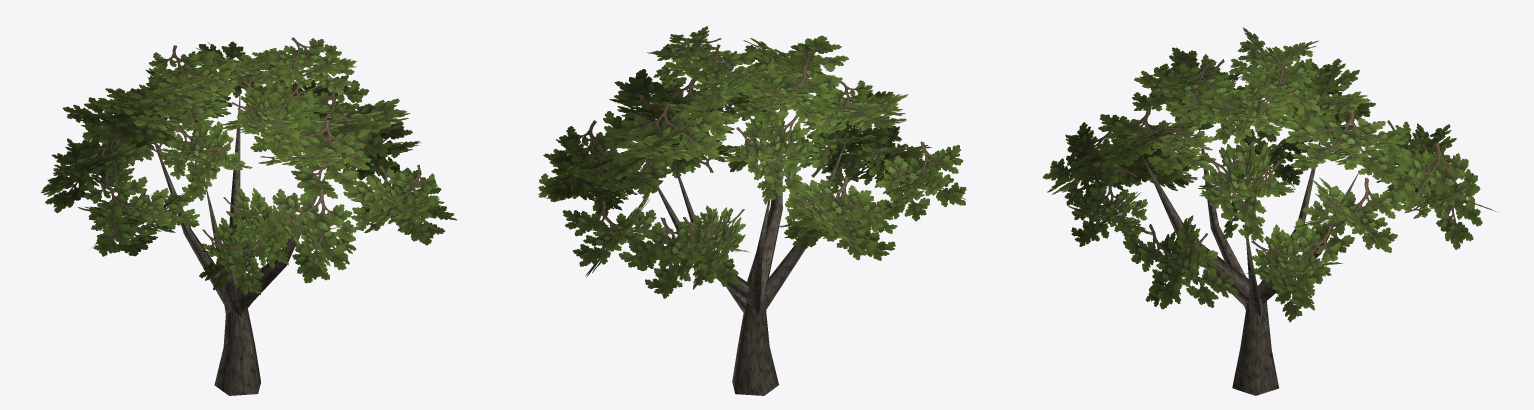
Rendered from oak.glb.
The picture shows the model from 3 angles, left to right: view 1: azimuth 30°, elevation 25°; view 2: azimuth 150°, elevation 25°; view 3: azimuth 270°, elevation 25°; orthographic projection.
Parts seen in each view (by area): view 1: oak_foliage, oak_wood; view 2: oak_foliage, oak_wood; view 3: oak_foliage, oak_wood.
Boxes of the visible parts, x1=… form: oak_foliage: x1=41, y1=37, x2=456, y2=295; oak_wood: x1=152, y1=96, x2=326, y2=395; oak_foliage: x1=538, y1=26, x2=966, y2=298; oak_wood: x1=647, y1=109, x2=848, y2=395; oak_foliage: x1=1042, y1=27, x2=1498, y2=322; oak_wood: x1=1141, y1=130, x2=1358, y2=395.
Bounding box in the file's own units: 8.81 × 6.84 × 9.32.
2 materials, 2 textured.
